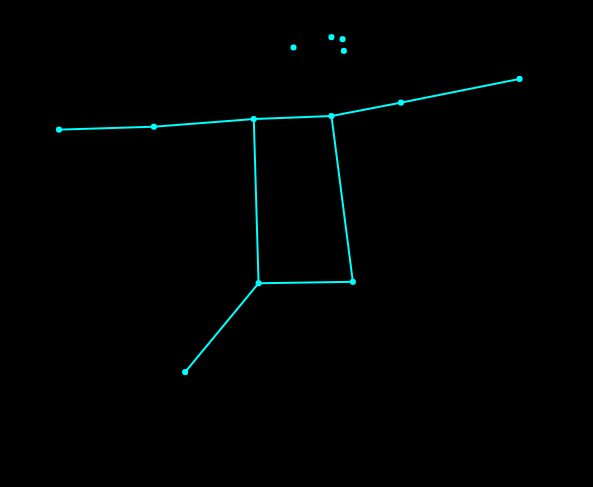warrior_2: (48, 24, 531, 381)
